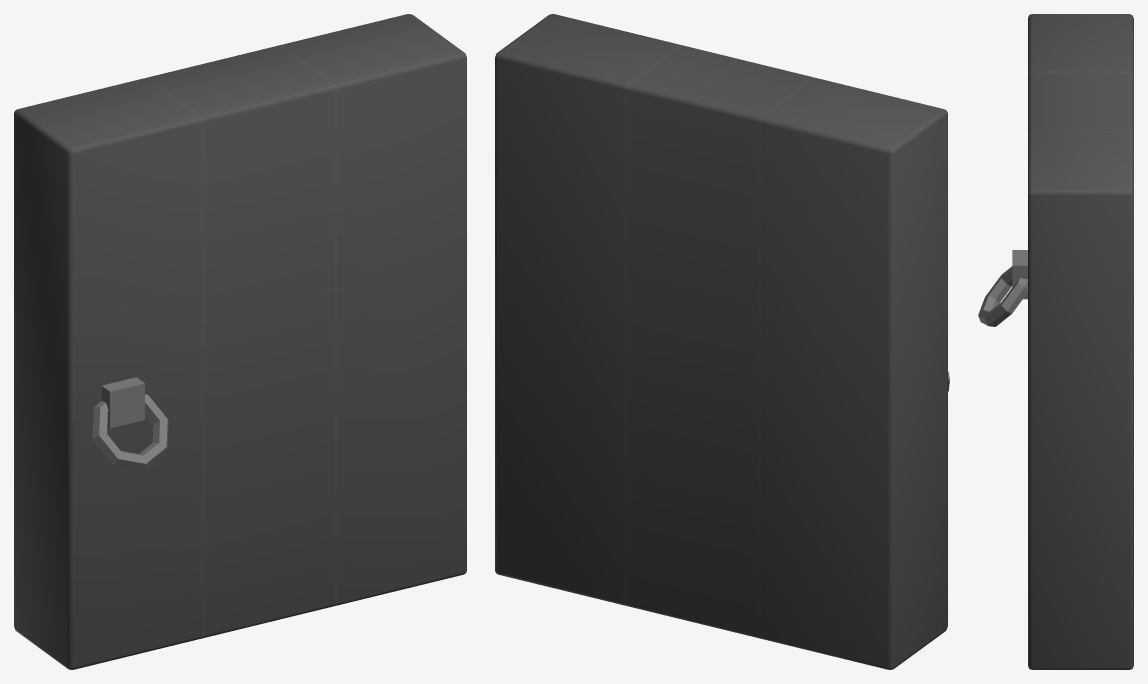
Rendered from Door_06.fbx.
The picture shows the model from 3 angles, left to right: view 1: azimuth 30°, elevation 25°; view 2: azimuth 150°, elevation 25°; view 3: azimuth 270°, elevation 25°; orthographic projection. The views are drawn at different scales.
Visible parts, largest first — view 1: Door_06; view 2: Door_06; view 3: Door_06.
Boxes of the visible parts, bbox=[...] form: Door_06: bbox=[14, 14, 466, 669]; Door_06: bbox=[495, 14, 949, 669]; Door_06: bbox=[978, 14, 1133, 669].
Size of the model in its own units: 1.6 by 2 by 0.5878.
